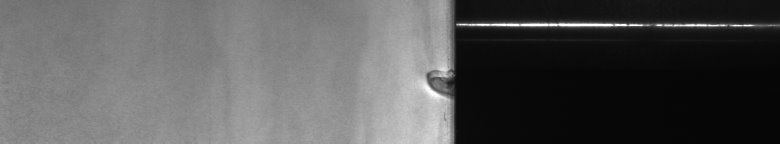hb: (419, 64, 444, 101)
